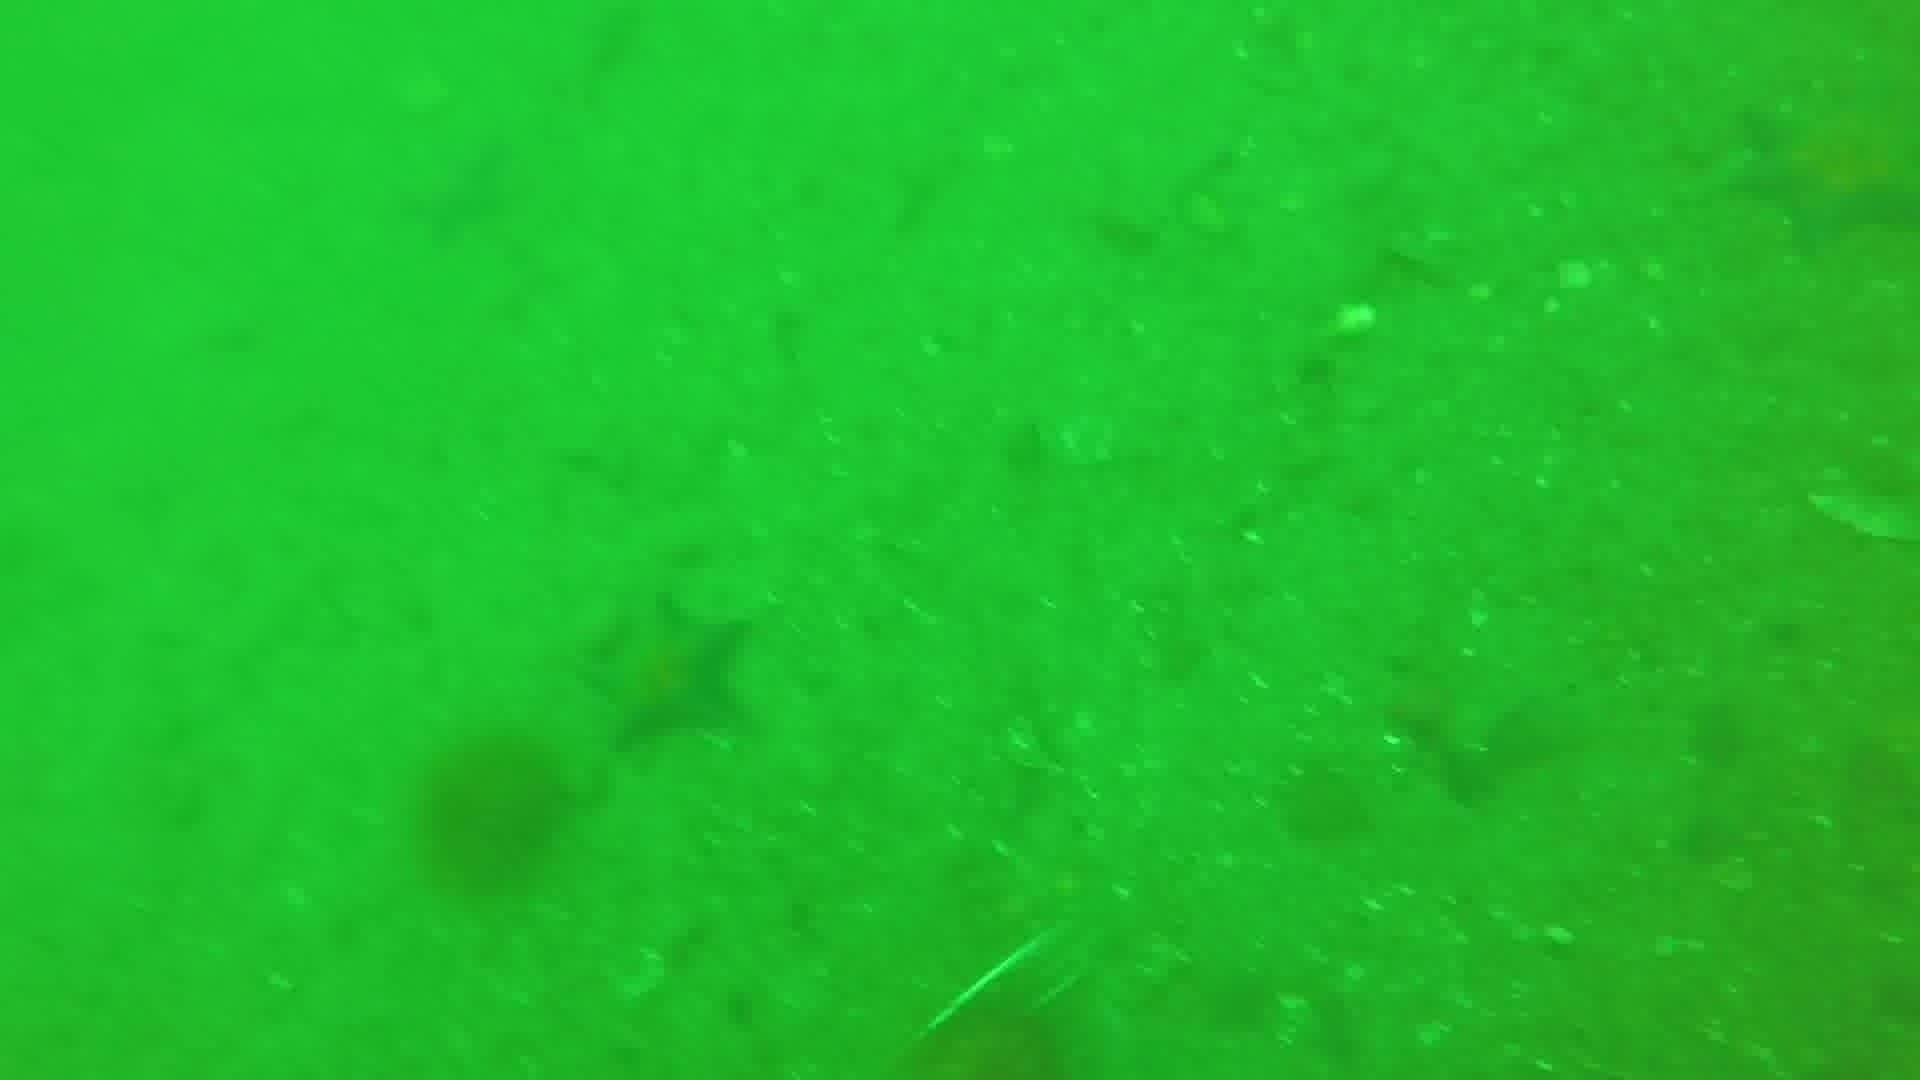echinus: (413, 728, 574, 898)
starfish: (1729, 90, 1916, 257), (578, 593, 756, 756), (388, 132, 517, 247)
